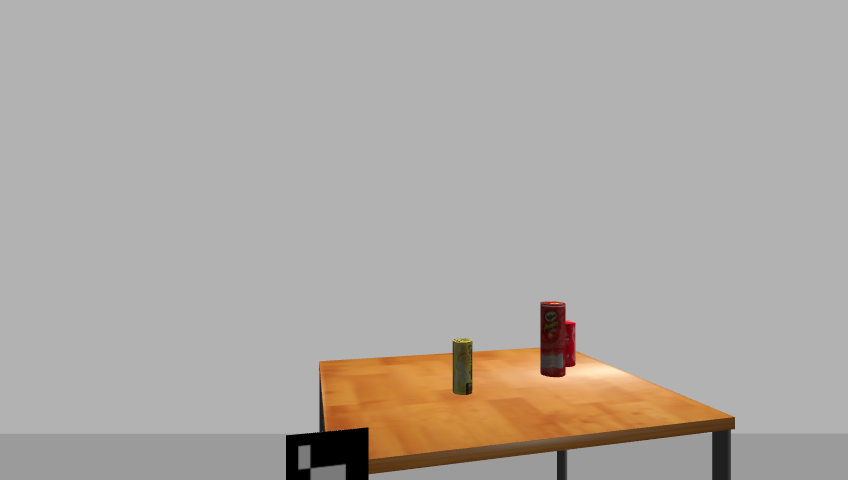aruco marker: (279, 427, 374, 480)
biscuits pack: (451, 338, 475, 397)
coke can: (562, 321, 578, 368)
dinner table: (312, 345, 744, 479)
pringles can: (538, 301, 567, 379)
